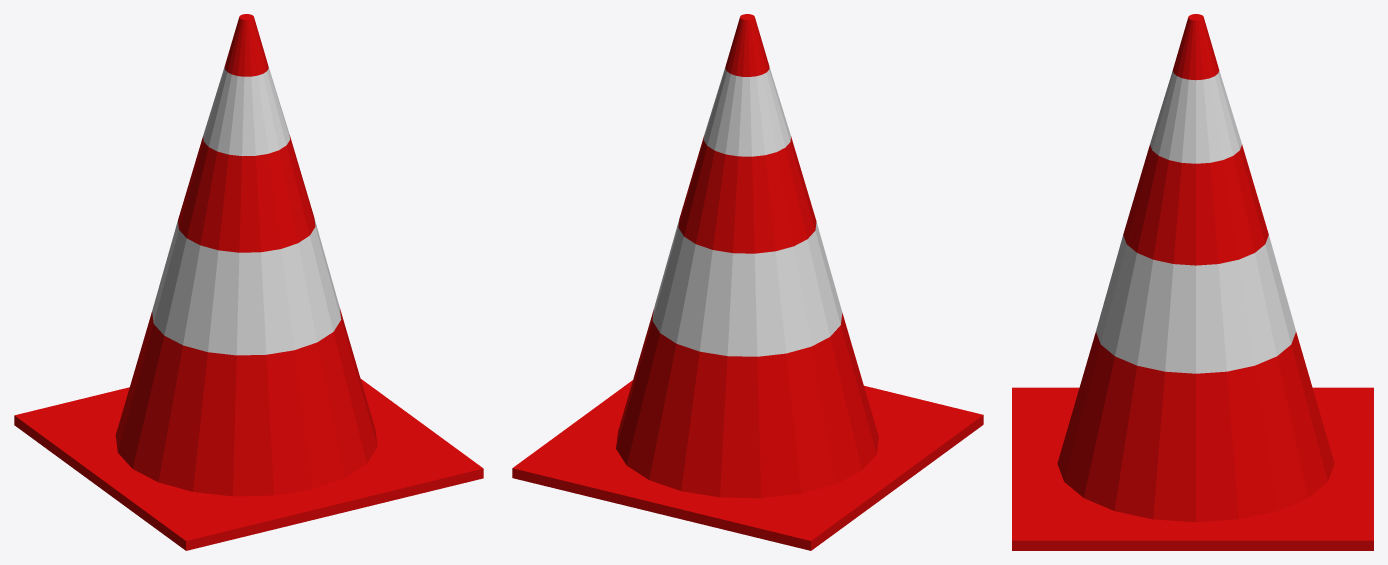
The model's file is pontoon.fbx.
3 views of the same model, side by side, from view 1: azimuth 30°, elevation 25°; view 2: azimuth 150°, elevation 25°; view 3: azimuth 270°, elevation 25° (orthographic). The views are drawn at different scales.
Parts seen in each view (by area): view 1: pontoon; view 2: pontoon; view 3: pontoon.
Boxes of the visible parts, x1=… form: pontoon: x1=14, y1=14, x2=483, y2=550; pontoon: x1=512, y1=14, x2=983, y2=550; pontoon: x1=1012, y1=14, x2=1373, y2=550.
Bounding box in the file's own units: 0.3339 × 0.4653 × 0.3339.
